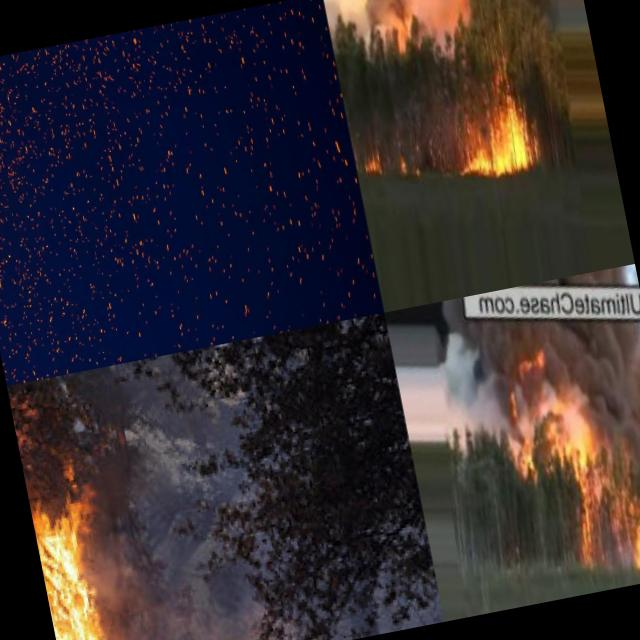fire: (25, 468, 129, 640), (543, 418, 616, 574), (452, 92, 542, 188), (392, 147, 430, 187), (360, 141, 390, 183), (627, 508, 640, 579)
smoke: (449, 321, 640, 439), (349, 0, 475, 70), (587, 406, 640, 466), (626, 321, 640, 441), (323, 0, 354, 23)
